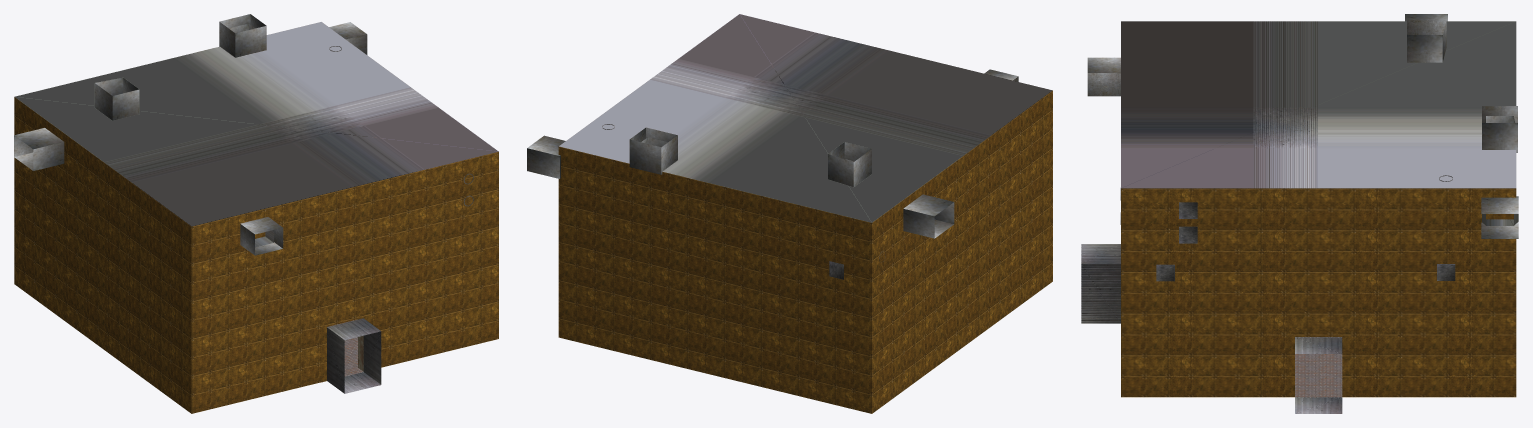
Rendered from room_5.fbx.
3 views of the same model, side by side, from view 1: azimuth 30°, elevation 25°; view 2: azimuth 150°, elevation 25°; view 3: azimuth 270°, elevation 25° (orthographic). The views are drawn at different scales.
Parts seen in each view (by area): view 1: Plane.002, Plane.004, Plane.001, Plane.003, Floor5; view 2: Plane.002, Plane.004, Plane.001; view 3: Plane.002, Plane.004, Plane.001, Plane.003, Floor5, Plane.005.
Part boxes in pixels (x1,y1,x2,y2): Plane.002: [14, 97, 498, 413]; Plane.004: [14, 22, 498, 226]; Plane.001: [14, 14, 367, 255]; Plane.003: [327, 318, 381, 393]; Floor5: [328, 319, 363, 376]; Plane.002: [558, 90, 1052, 413]; Plane.004: [559, 14, 1052, 222]; Plane.001: [527, 69, 1018, 238]; Plane.002: [1121, 188, 1516, 397]; Plane.004: [1121, 21, 1516, 188]; Plane.001: [1087, 14, 1518, 238]; Plane.003: [1081, 244, 1120, 323]; Floor5: [1295, 337, 1342, 397]; Plane.005: [1295, 337, 1342, 413].
Size of the model in its own units: 1201 by 661 by 1106.
